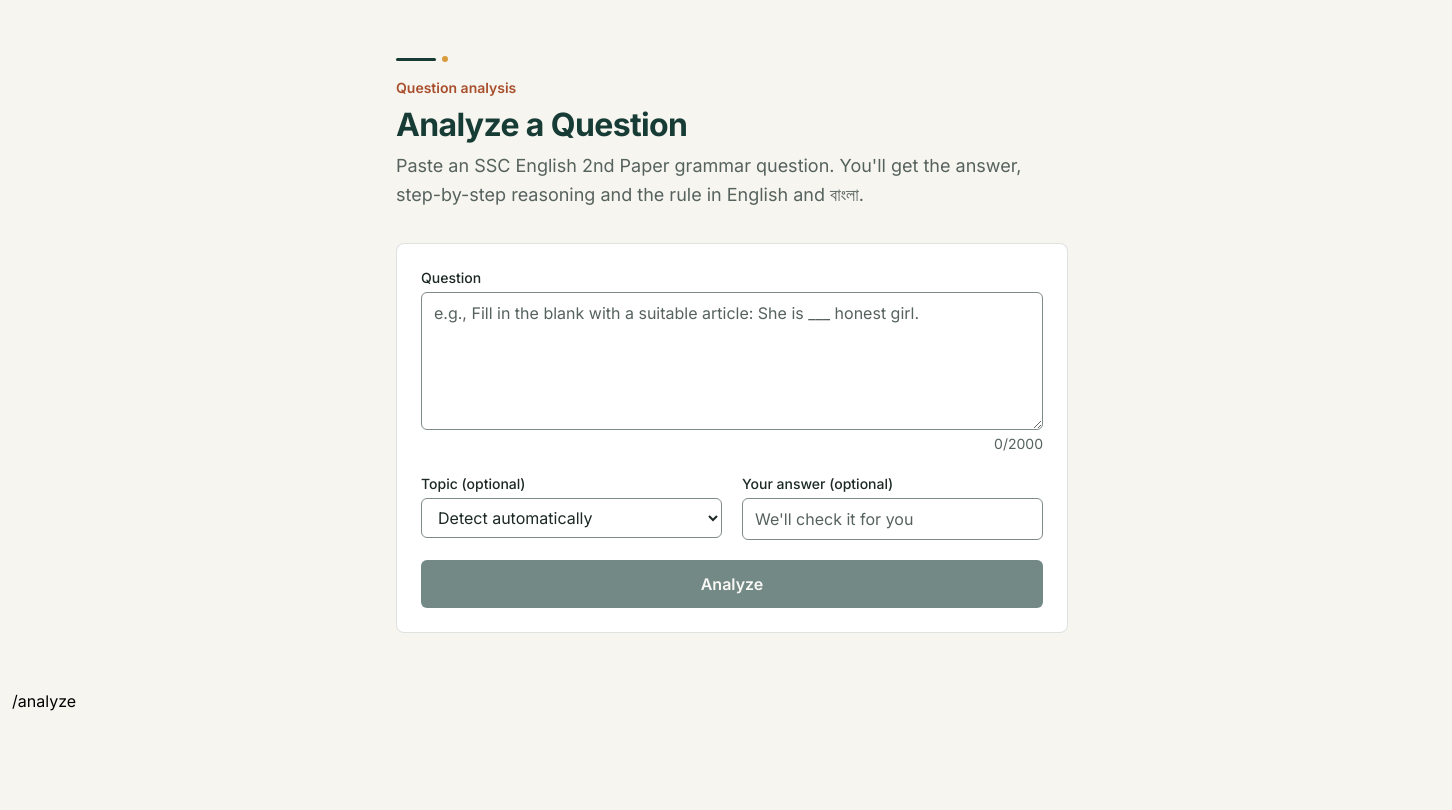
AnalyzePage › switching to Bangla shows the Bangla explanation and is remembered
Type "She is ___ honest girl." into the text box labelled "Question". click: (732, 361)
box: x1=421 y1=292 x2=1043 y2=430
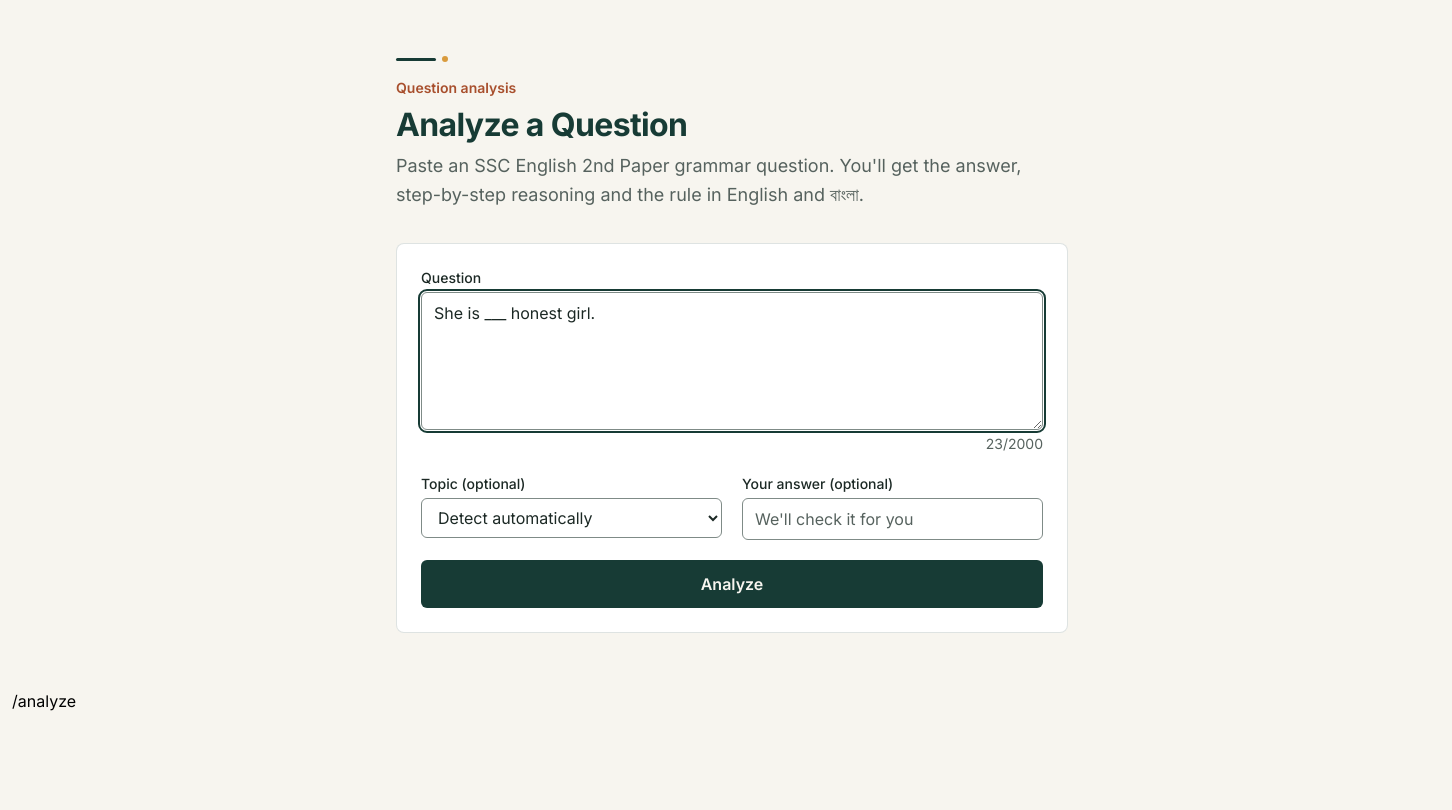
Click the button "Analyze". click: click(732, 584)
box: x1=421 y1=560 x2=1043 y2=608
(page scrolled)
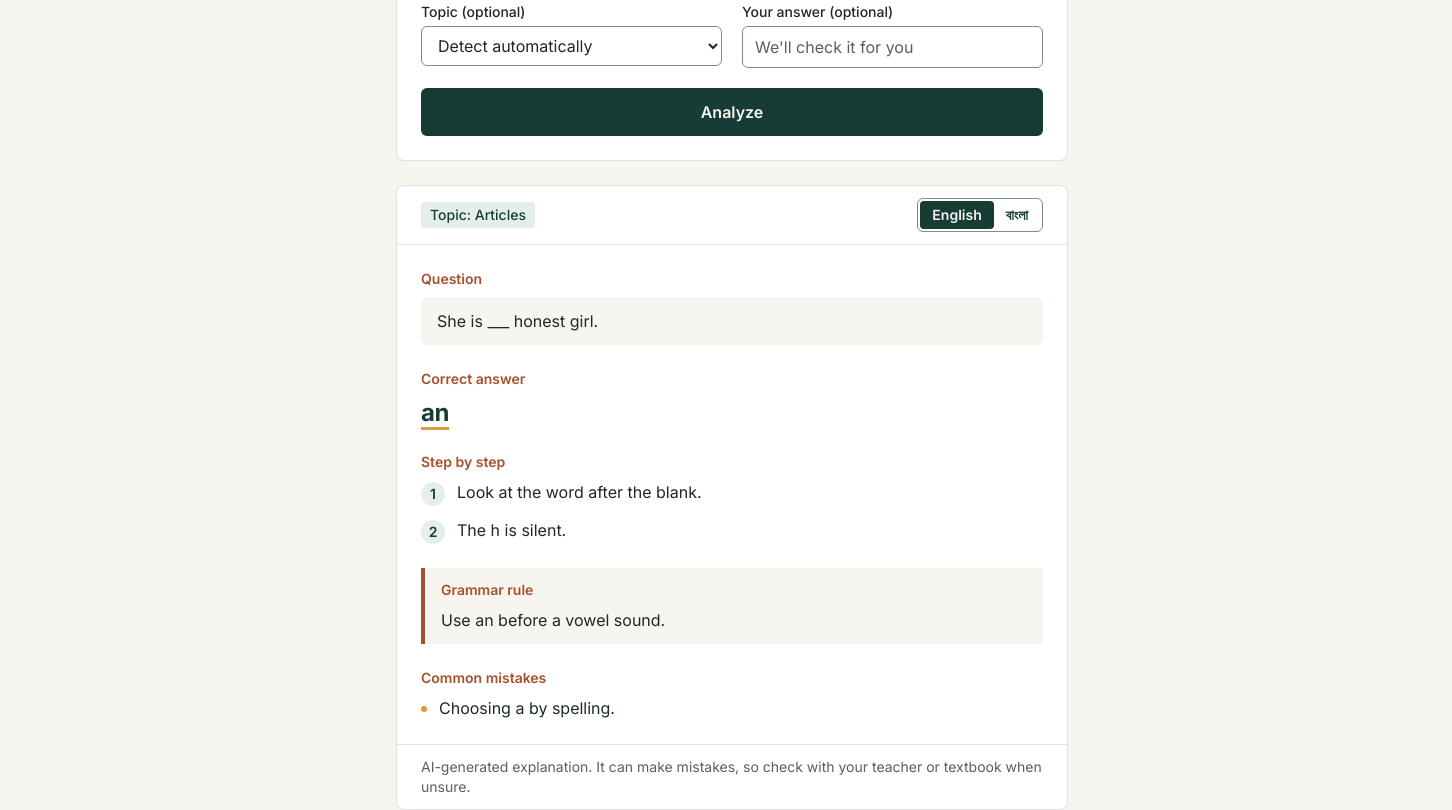
Click the button "বাংলা". click: click(1017, 215)
box: x1=994 y1=201 x2=1040 y2=229
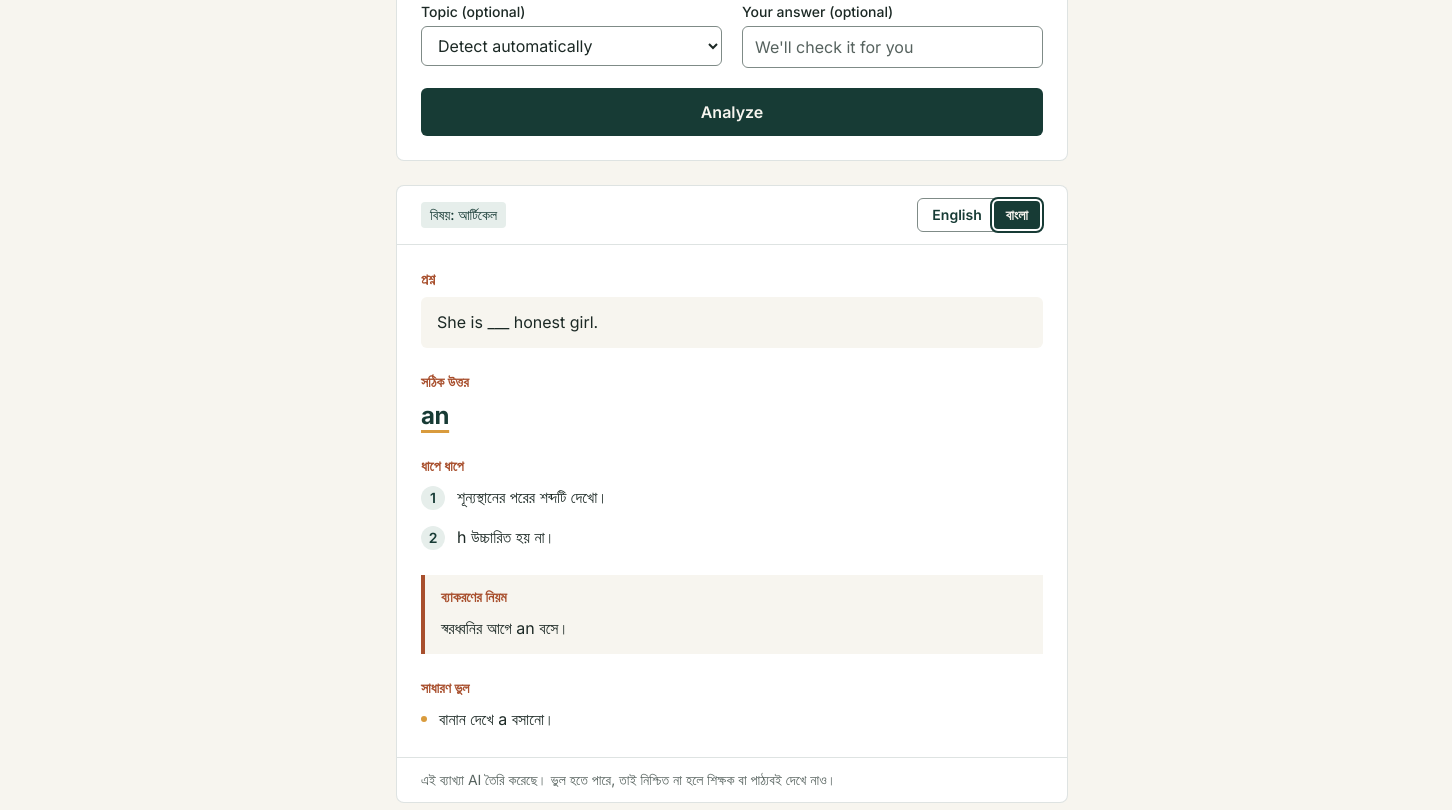
Expected: the text "স্বরধ্বনির আগে an বসে।" is shown, x1=441 y1=618 x2=569 y2=638
Expected: the text "শূন্যস্থানের পরের শব্দটি দেখো।" is shown, x1=457 y1=484 x2=608 y2=512
Expected: the heading "ব্যাকরণের নিয়ম" is shown, x1=441 y1=588 x2=507 y2=605
